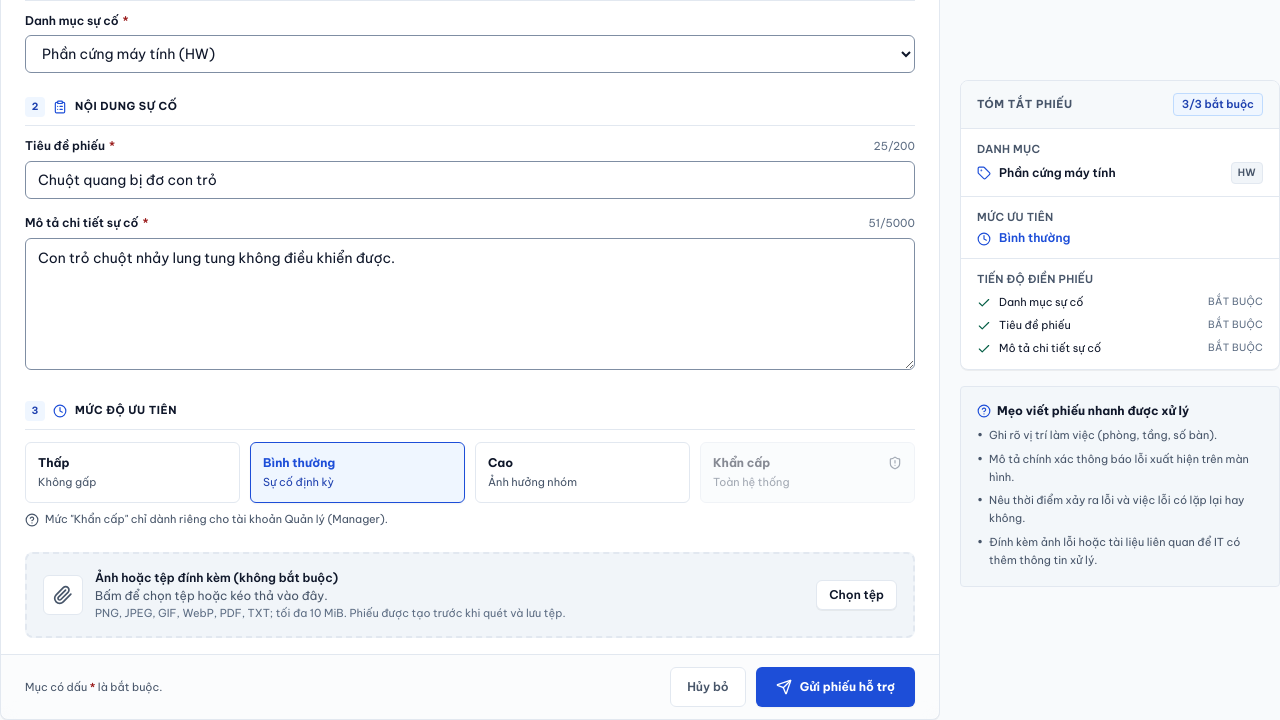
Test: CreateTicketPage Draft Auto-Save & Restore › clears draft from localStorage immediately on successful submission
The image size is (1280, 720).
(page scrolled)
Expected: the field showing "Chuột quang bị đơ con trỏ" is shown, [25,161,915,199]
Step 1. Click the button "Gửi phiếu hỗ trợ" → x=835, y=687, box [756,667,915,707]
(page scrolled)
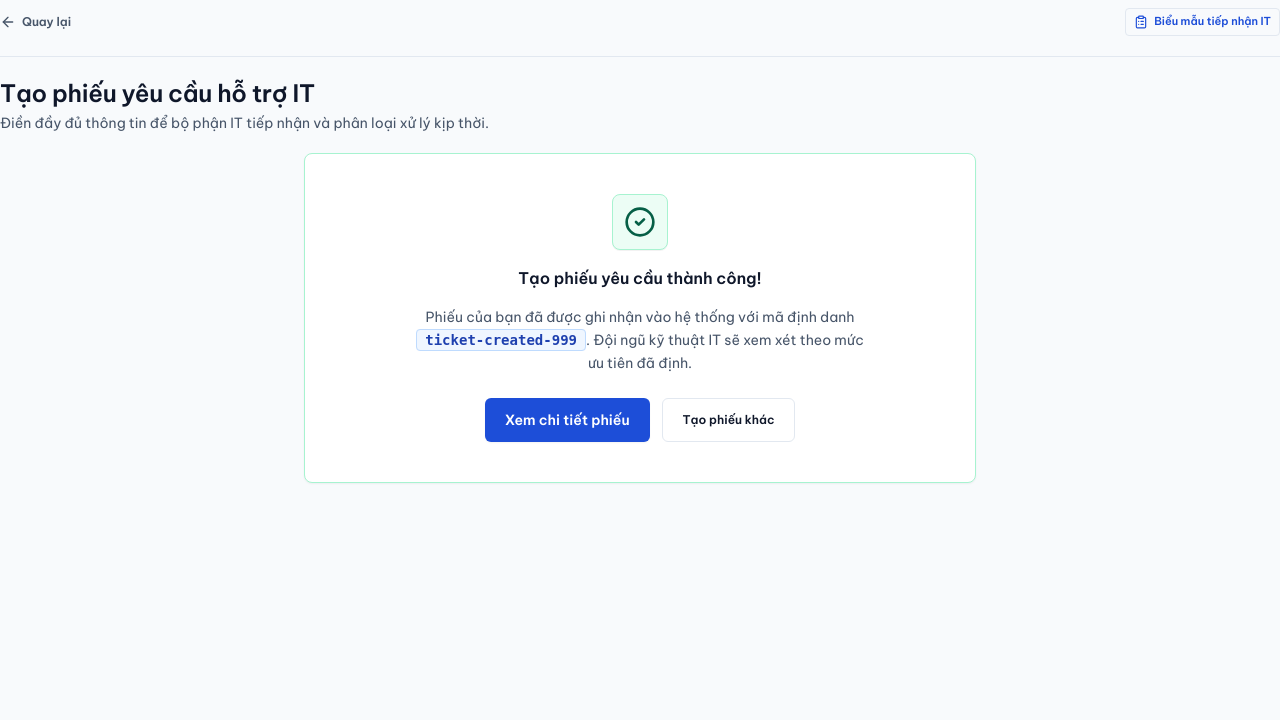
Result: the text "ticket-created-999" is shown at [416,329,586,351]
